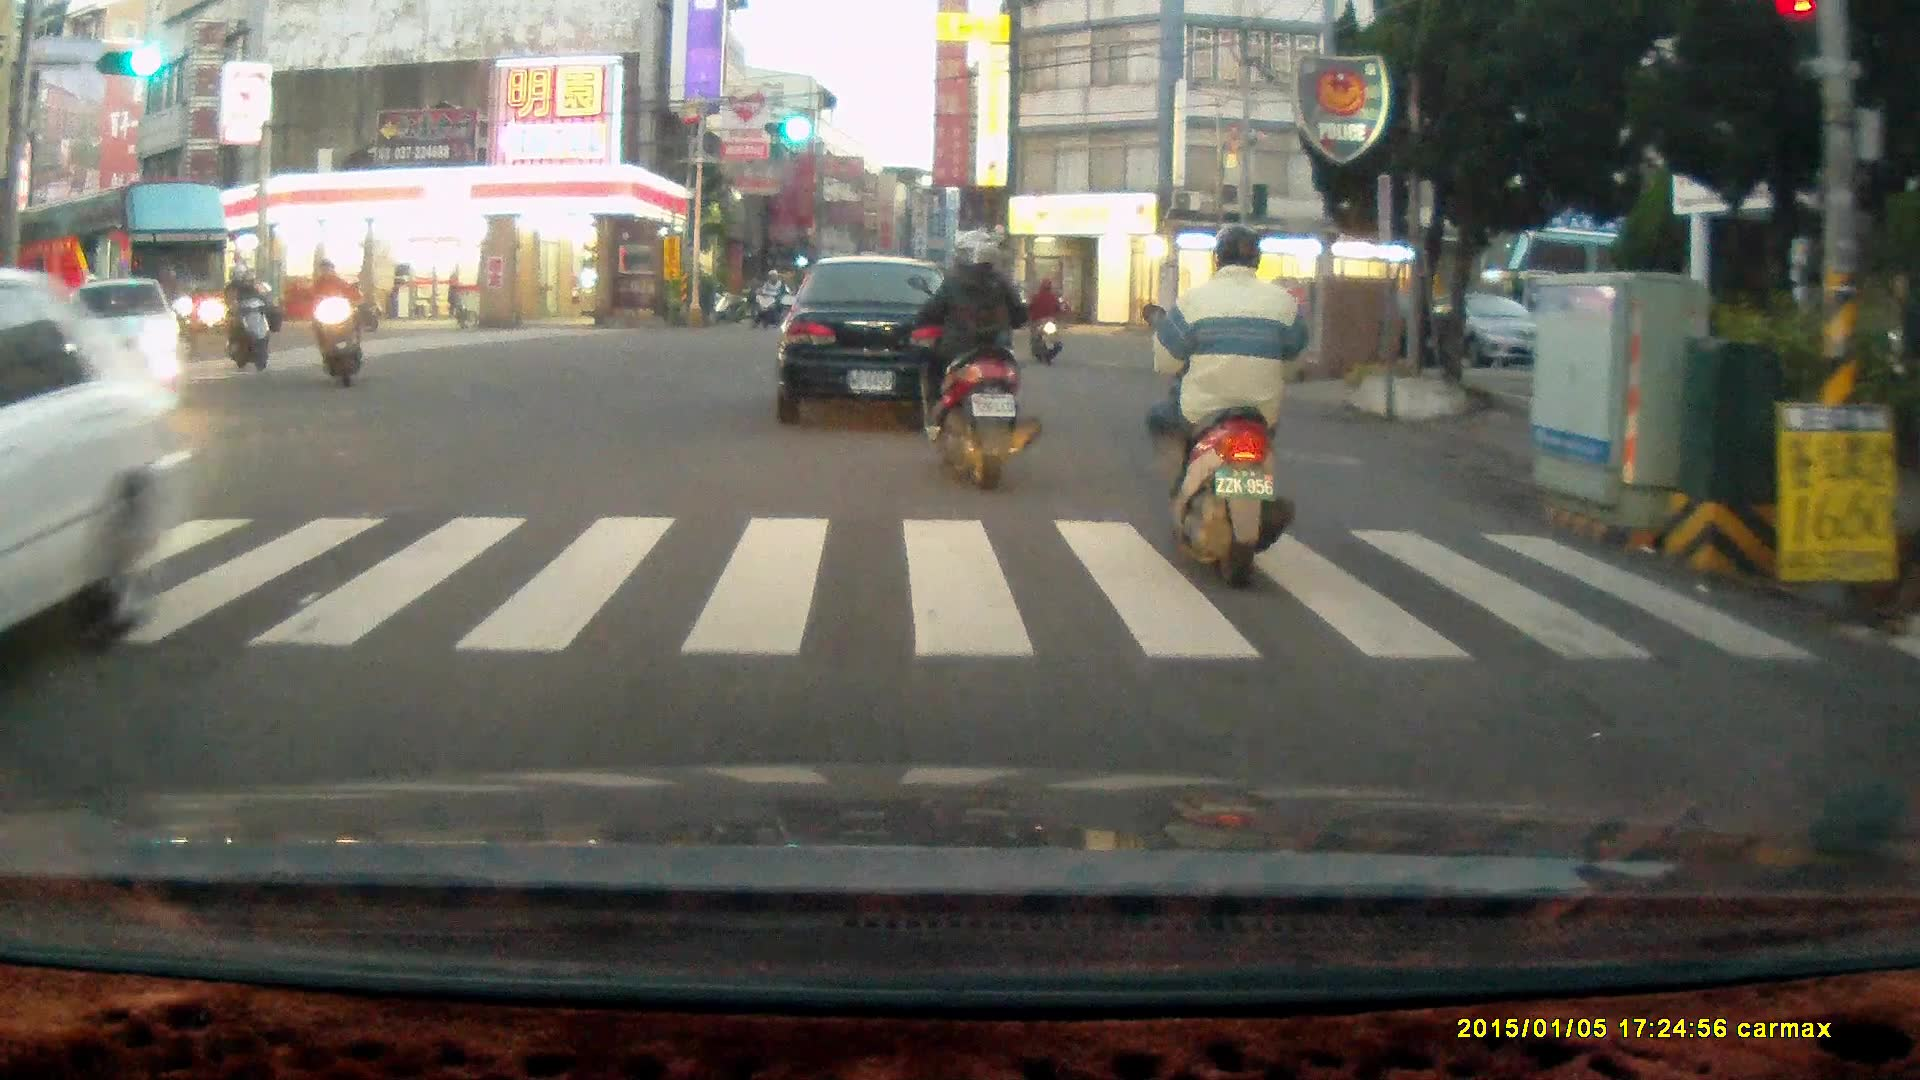rider: (1139, 225, 1296, 588), (905, 225, 1044, 493), (307, 258, 364, 393), (216, 265, 273, 380), (1024, 274, 1065, 366), (752, 268, 783, 329)
vehicle: (1, 264, 201, 700), (7, 185, 233, 354), (1381, 286, 1567, 373)
